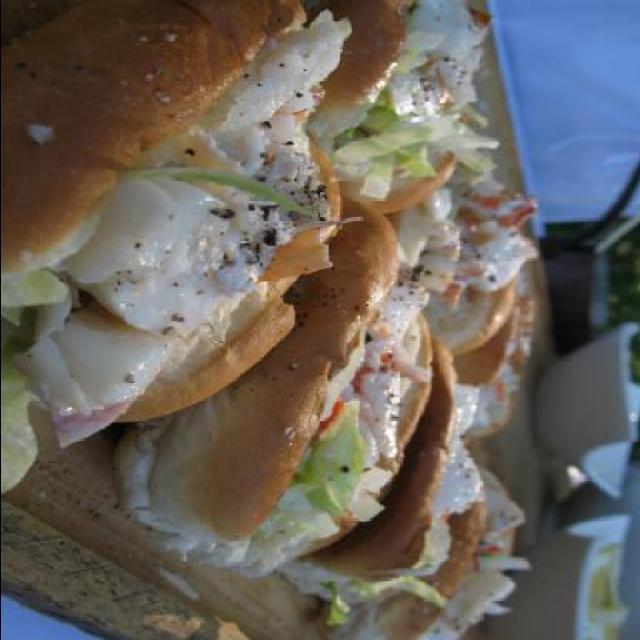Hot dog: (130, 235, 472, 617)
